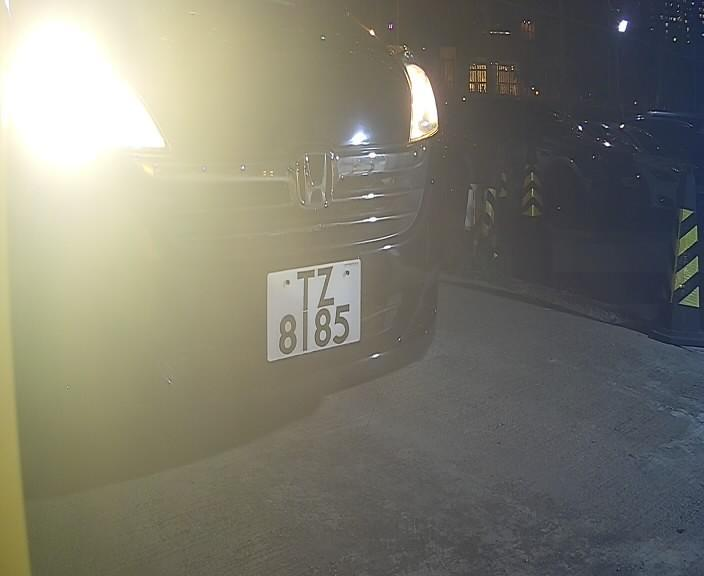privatecar: (1, 7, 467, 447)
